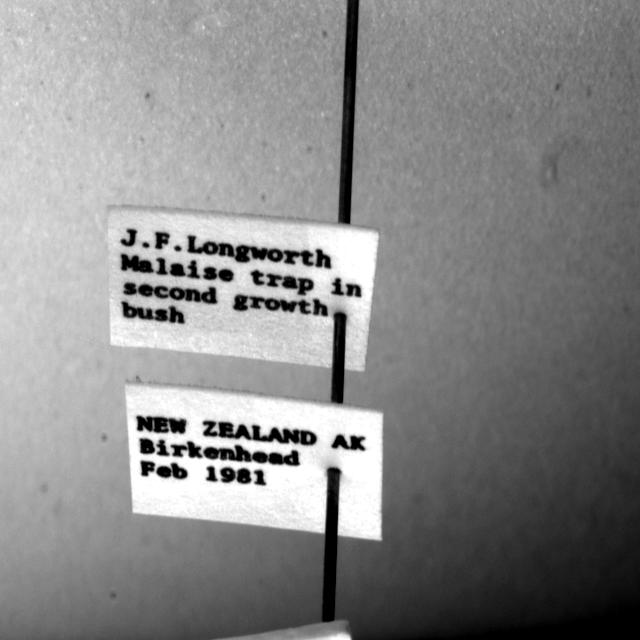typed_label: (108, 206, 379, 371), (125, 382, 382, 540)
